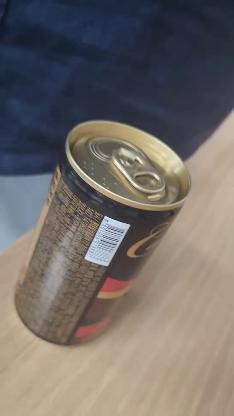Can: (15, 122, 189, 344)
